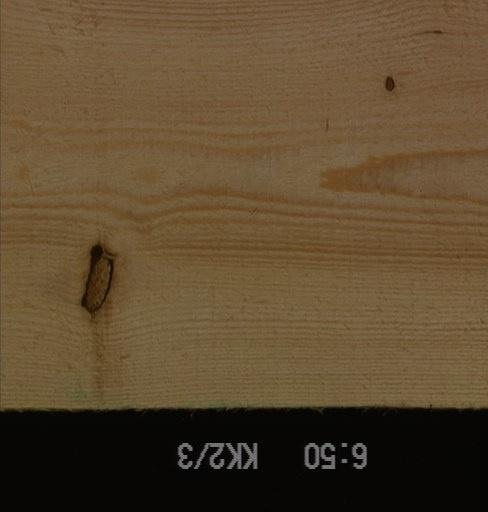dry_knot: (383, 74, 394, 93)
